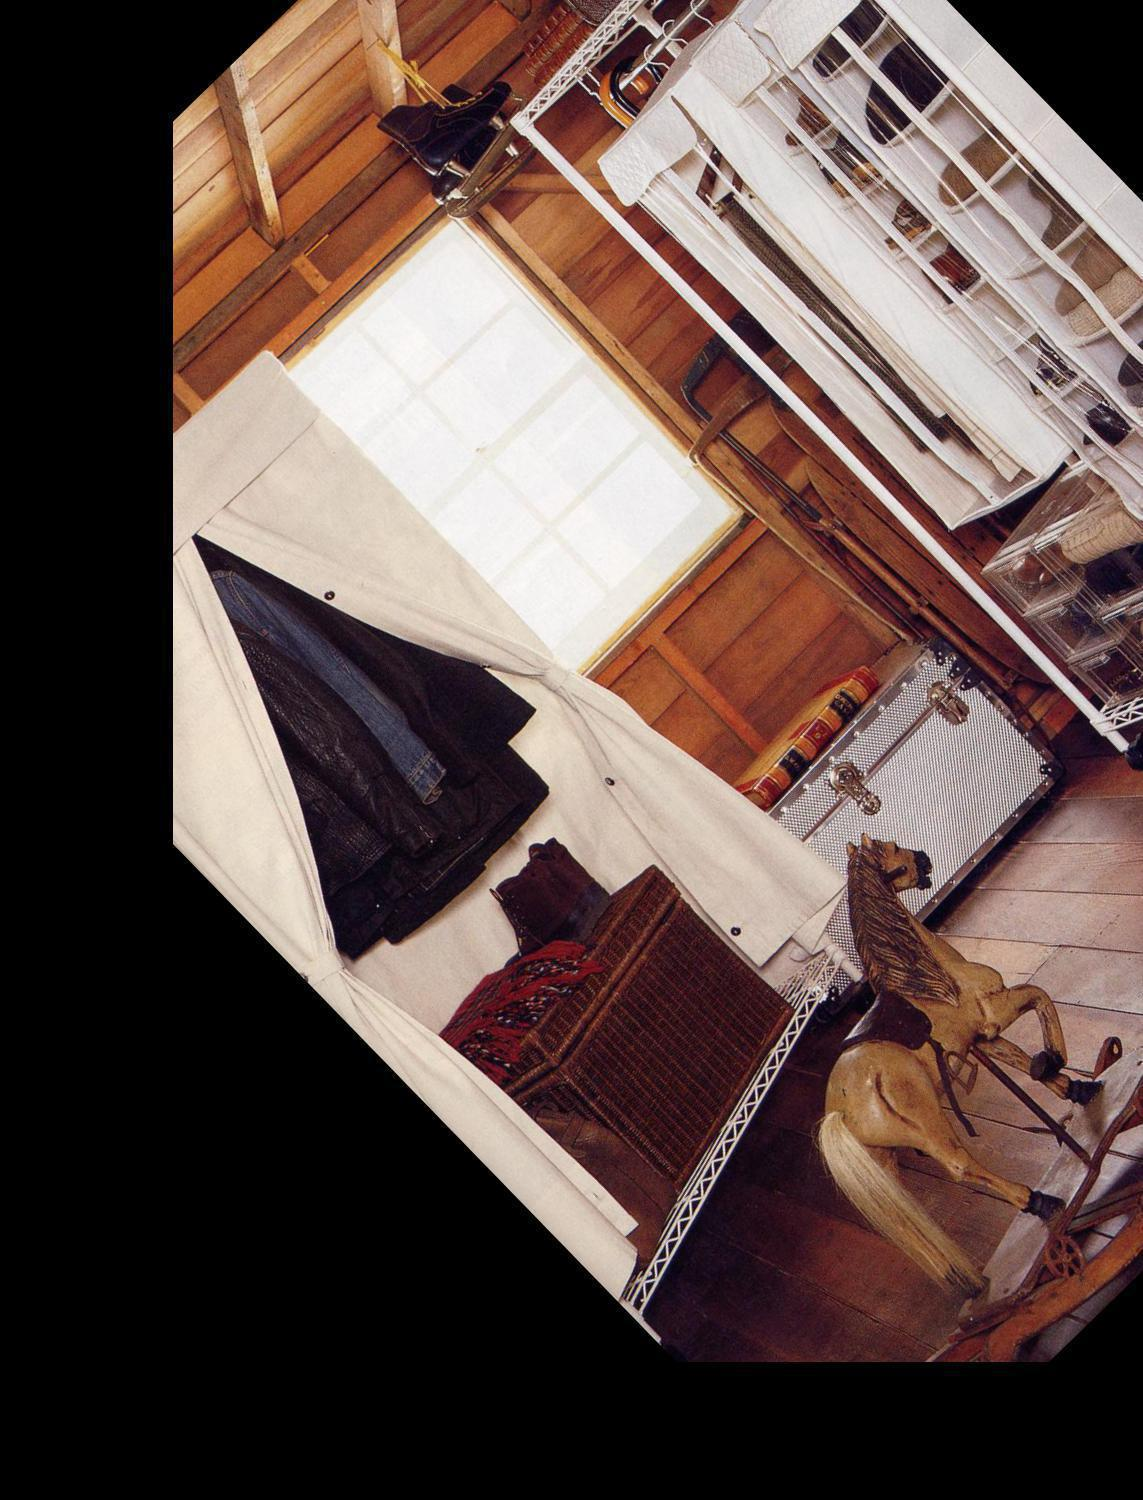Otro Obstaculo: (666, 718, 1143, 1357), (698, 584, 1085, 971), (970, 394, 1143, 1098)
